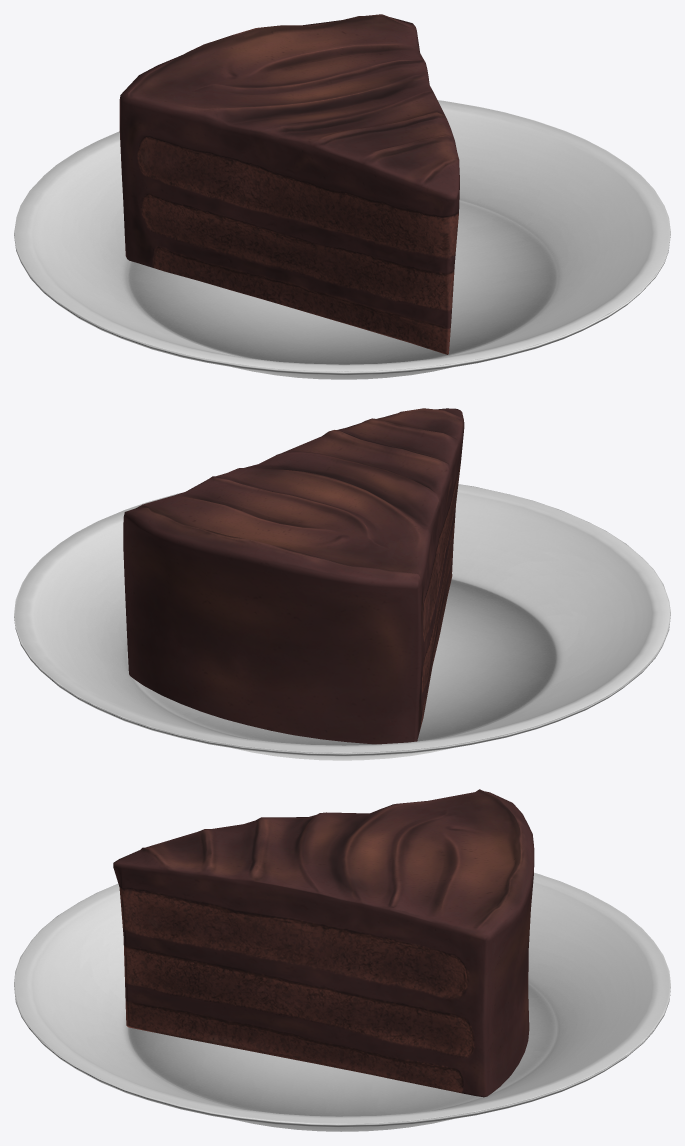
File: chocom1.glb
3 renders of one model, top to bottom at view 1: azimuth 30°, elevation 25°; view 2: azimuth 150°, elevation 25°; view 3: azimuth 270°, elevation 25°, orthographic.
Visible parts, largest first — view 1: node_id30_1; view 2: node_id30_1; view 3: node_id30_1.
Boxes of the visible parts, x1=… form: node_id30_1: x1=14, y1=14, x2=670, y2=379; node_id30_1: x1=14, y1=408, x2=670, y2=760; node_id30_1: x1=14, y1=789, x2=670, y2=1131.
Size of the model in its own units: 0.512 by 0.1667 by 0.5122.
1 material, 1 textured.
